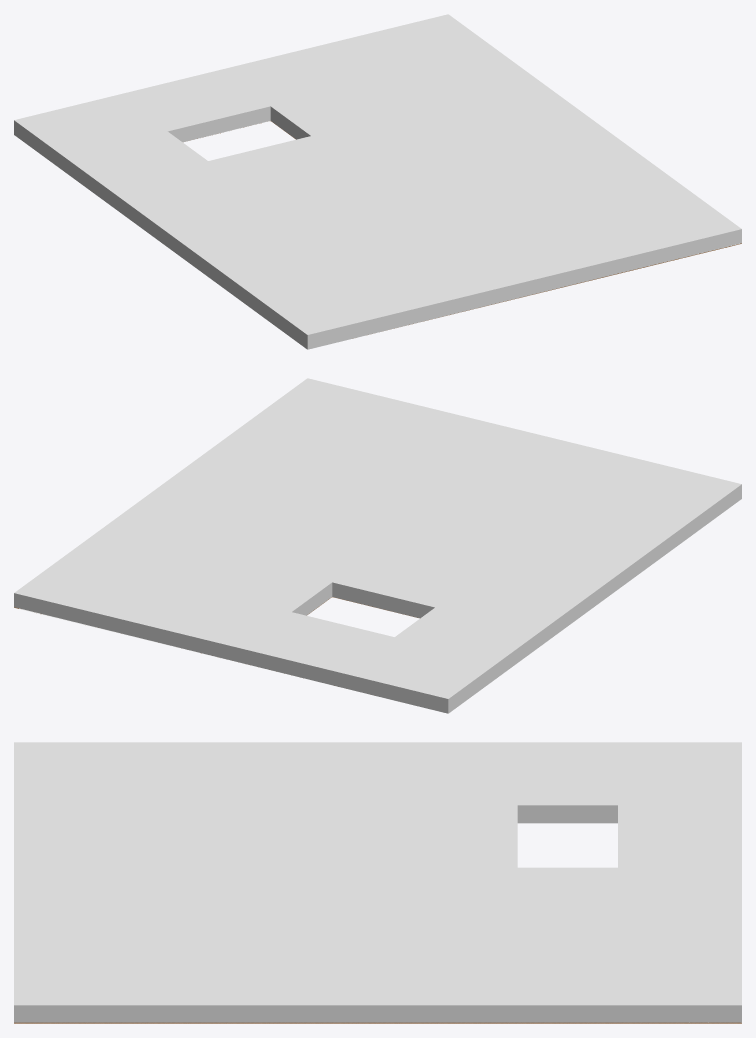
File: house-roof-top.glb
3 renders of one model, top to bottom at view 1: azimuth 30°, elevation 25°; view 2: azimuth 150°, elevation 25°; view 3: azimuth 270°, elevation 25°, orthographic. The views are drawn at different scales.
Parts seen in each view (by area): view 1: Villa Rooftop; view 2: Villa Rooftop; view 3: Villa Rooftop.
Boxes of the visible parts, x1,y1,x2,y2 form: Villa Rooftop: (14,14,741,349); Villa Rooftop: (14,378,741,713); Villa Rooftop: (14,742,741,1023).
Size of the model in its own units: 29.65 by 0.9583 by 34.71.
3 materials, 1 textured.
